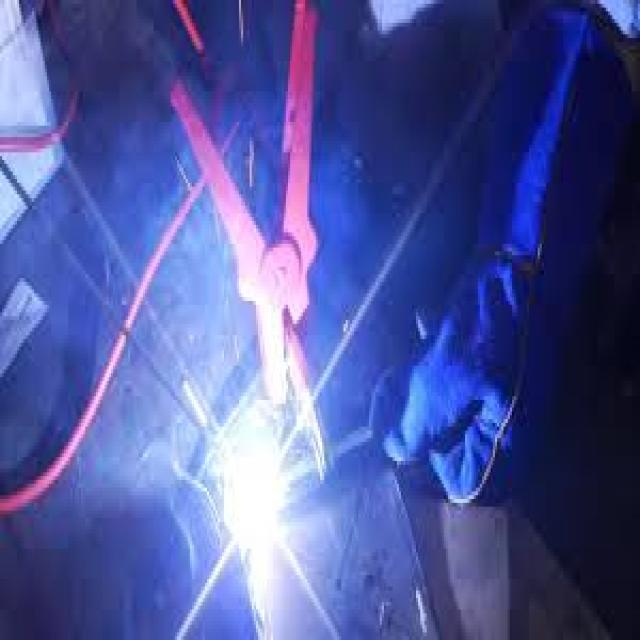welding: (221, 431, 285, 534)
